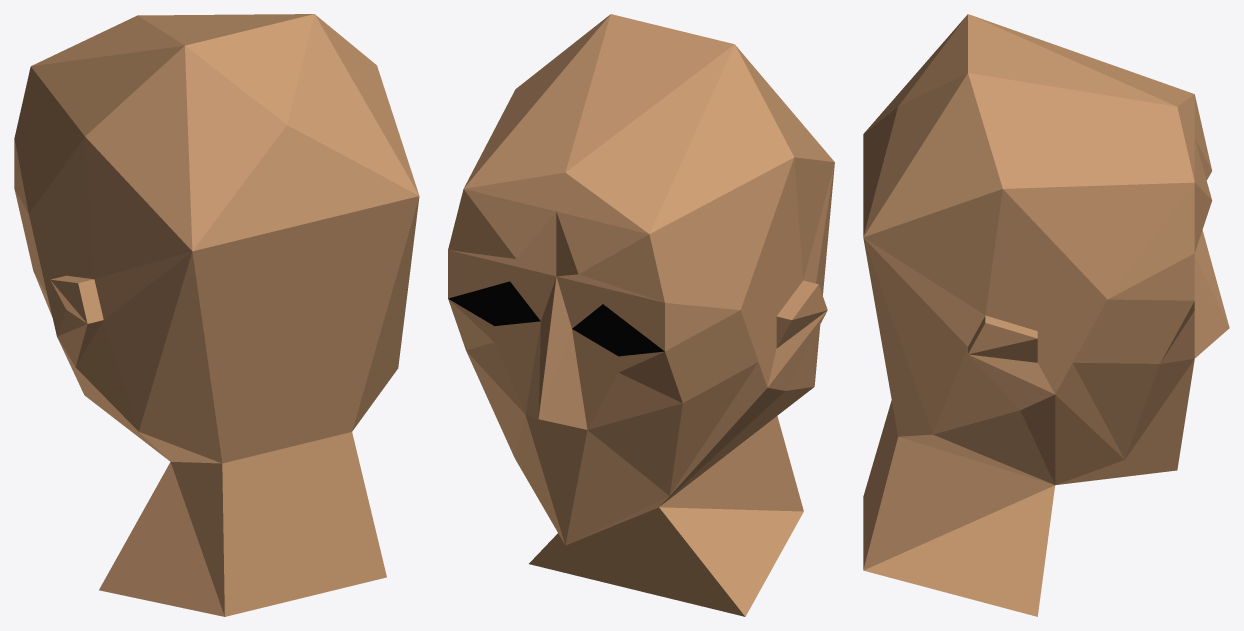
Rendered from player_female_head_45_0.obj.
3 views of the same model, side by side, from view 1: azimuth 30°, elevation 25°; view 2: azimuth 150°, elevation 25°; view 3: azimuth 270°, elevation 25° (orthographic). The views are drawn at different scales.
Bounding box in the file's own units: 0.1562 × 0.2578 × 0.1641.
